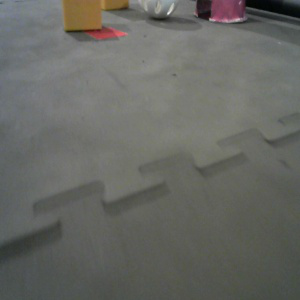right: (193, 1, 249, 24)
